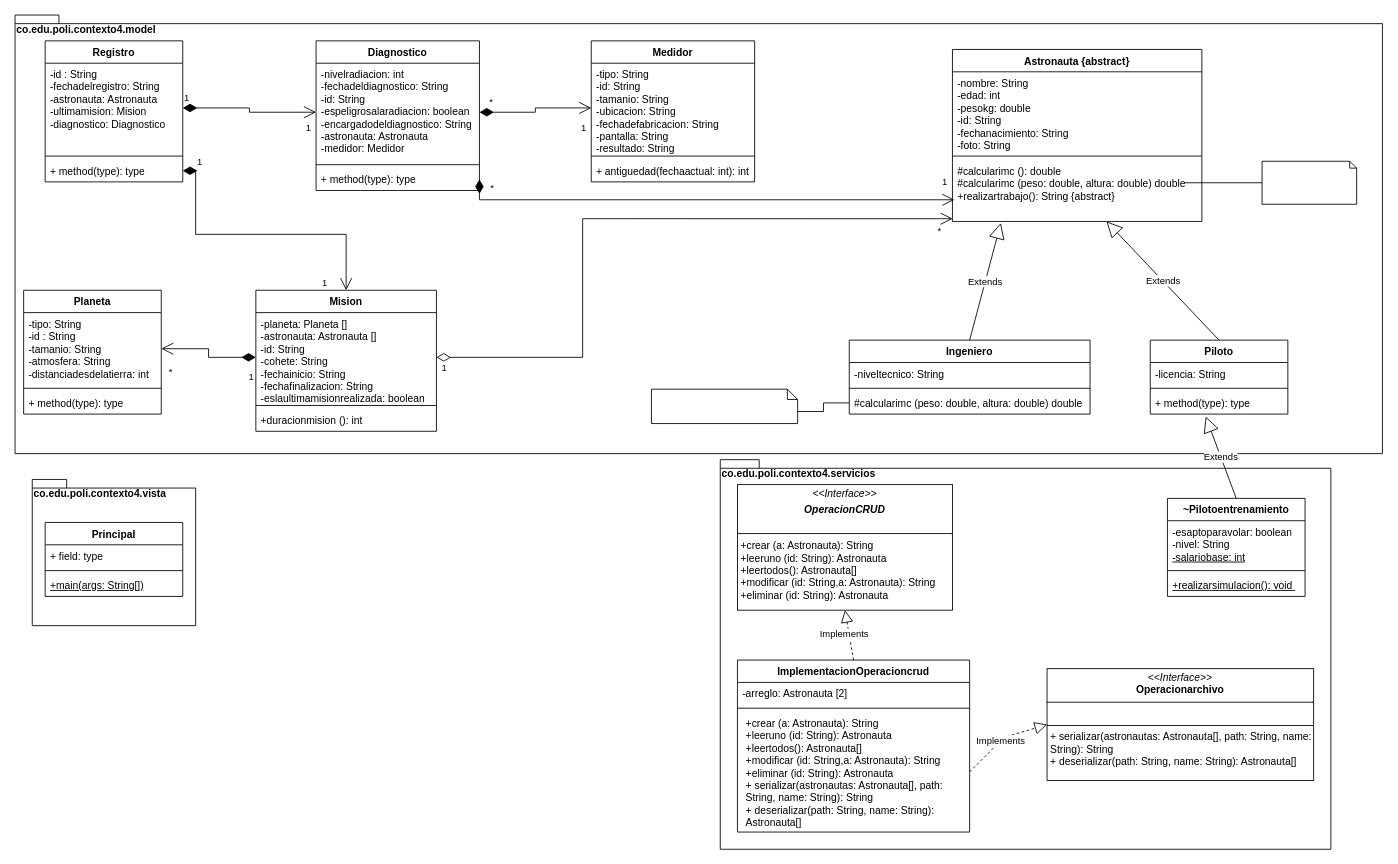
The diagram is 1398 pixels wide and 864 high, and some of its shapes have lost their labels. The centre of each missing label's shape, as x and y in pixels:
"return pesokg/alturam^2*1000;" belongs at (x=724, y=406).
"return pesokg/alturam^2;" belongs at (x=1309, y=182).
